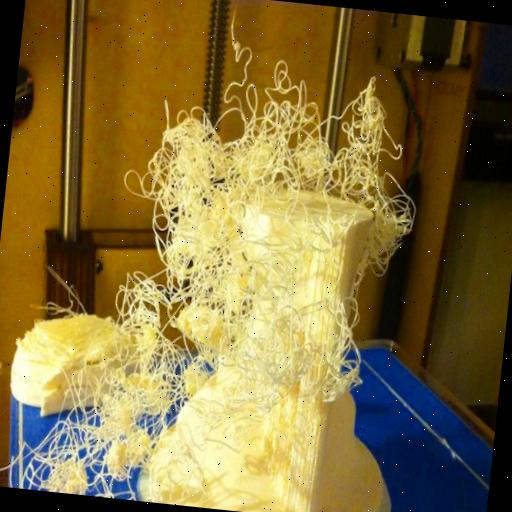spaghetti: (119, 21, 437, 390), (10, 278, 206, 497)
